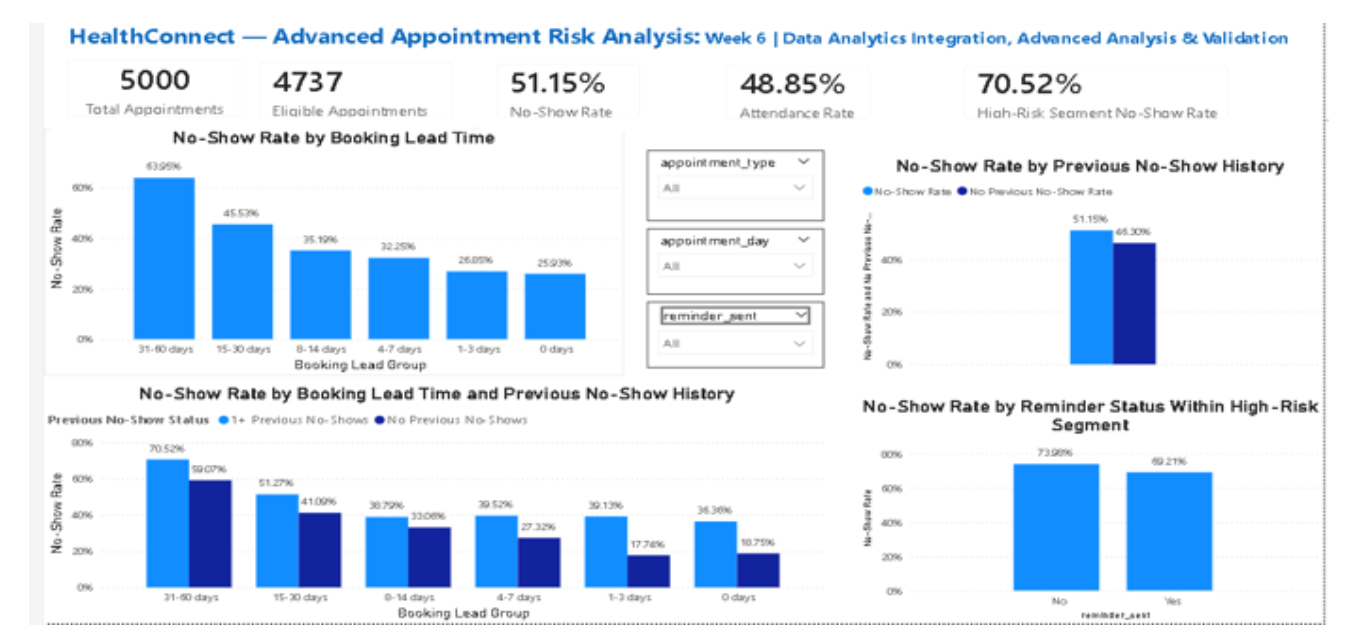

The dashboard page shown, as its layout file describes it:
{"tool":"powerbi","page":{"name":"Week 6 Dashboard","canvas":[1280,720],"ordinal":0},"visuals":[{"type":"clusteredColumnChart","title":"No-Show Rate by Booking Lead Time","fields":{"Category":["HealthConnect_Appointment_Data.Booking Lead Group"],"Y":["HealthConnect_Appointment_Data.No-Show Rate"]},"box":[0,131.9,580,294.3],"z":0},{"type":"textbox","box":[0,0,1270.4,52.5],"z":1000},{"type":"cardVisual","fields":{"Data":["HealthConnect_Appointment_Data.Total Appointments"]},"box":[5.7,34.1,208.7,102.2],"z":2000},{"type":"cardVisual","fields":{"Data":["HealthConnect_Appointment_Data.High-Risk Segment No-Show Rate"]},"box":[903.8,40.3,298.8,97.1],"z":3000},{"type":"cardVisual","fields":{"Data":["HealthConnect_Appointment_Data.Eligible Appointments"]},"box":[199.2,36.4,227.8,100.2],"z":4000},{"type":"cardVisual","fields":{"Data":["HealthConnect_Appointment_Data.No-Show Rate"]},"box":[436.2,38.8,177.8,97.1],"z":5000},{"type":"cardVisual","fields":{"Data":["HealthConnect_Appointment_Data.Attendance Rate"]},"box":[665.5,40.6,178.3,97.1],"z":6000},{"type":"clusteredColumnChart","title":"No-Show Rate by Previous No-Show History","fields":{"Y":["HealthConnect_Appointment_Data.No-Show Rate","HealthConnect_Appointment_Data.No Previous No-Show Rate"]},"box":[813.4,165.3,466.9,261],"z":7000},{"type":"clusteredColumnChart","title":"No-Show Rate by Booking Lead Time and Previous No-Show History","fields":{"Y":["HealthConnect_Appointment_Data.No-Show Rate"],"Category":["HealthConnect_Appointment_Data.Booking Lead Group"],"Series":["HealthConnect_Appointment_Data.Previous No-Show Status"]},"box":[0,436.4,787.3,284.2],"z":8000},{"type":"clusteredColumnChart","title":"No-Show Rate by Reminder Status Within High-Risk Segment","fields":{"Category":["HealthConnect_Appointment_Data.reminder_sent"],"Y":["HealthConnect_Appointment_Data.No-Show Rate"]},"box":[813.4,450.9,466.9,269.7],"z":8001},{"type":"slicer","fields":{"Values":["HealthConnect_Appointment_Data.appointment_type"]},"box":[603.2,158,176.9,84.1],"z":8002},{"type":"slicer","fields":{"Values":["HealthConnect_Appointment_Data.appointment_day"]},"box":[603.2,250.8,176.9,78.3],"z":8003},{"type":"slicer","fields":{"Values":["HealthConnect_Appointment_Data.reminder_sent"]},"box":[603.2,337.8,176.9,78.3],"z":8004}]}

Visuals, with their boxes on the page's 1280x720 design canvas (x1, y1, x2, y2). These are canvas units, not pixel positions in the 1350x629 screenshot, which may show the page scaled, cropped or inside an application window:
"No-Show Rate by Booking Lead Time" clusteredColumnChart: [0,132,580,426]
textbox: [0,0,1270,52]
cardVisual - HealthConnect_Appointment_Data.Total Appointments: [6,34,214,136]
cardVisual - HealthConnect_Appointment_Data.High-Risk Segment No-Show Rate: [904,40,1203,137]
cardVisual - HealthConnect_Appointment_Data.Eligible Appointments: [199,36,427,137]
cardVisual - HealthConnect_Appointment_Data.No-Show Rate: [436,39,614,136]
cardVisual - HealthConnect_Appointment_Data.Attendance Rate: [666,41,844,138]
"No-Show Rate by Previous No-Show History" clusteredColumnChart: [813,165,1280,426]
"No-Show Rate by Booking Lead Time and Previous No-Show History" clusteredColumnChart: [0,436,787,721]
"No-Show Rate by Reminder Status Within High-Risk Segment" clusteredColumnChart: [813,451,1280,721]
slicer - HealthConnect_Appointment_Data.appointment_type: [603,158,780,242]
slicer - HealthConnect_Appointment_Data.appointment_day: [603,251,780,329]
slicer - HealthConnect_Appointment_Data.reminder_sent: [603,338,780,416]
